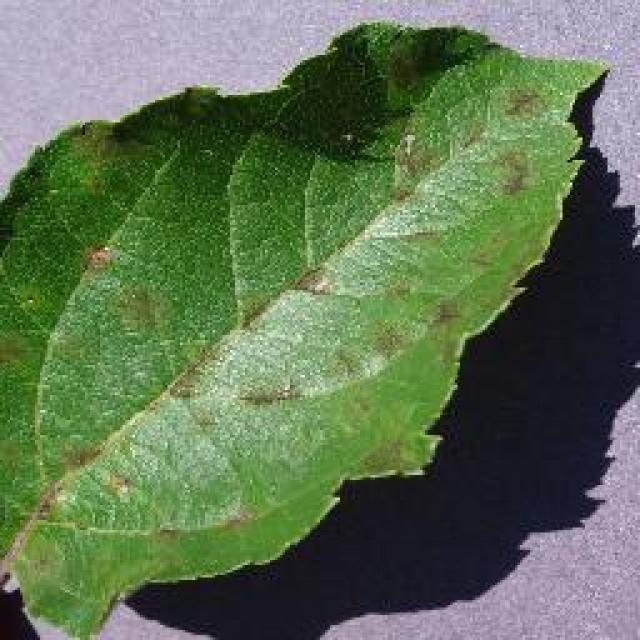apple scab disease: (0, 17, 612, 637)
